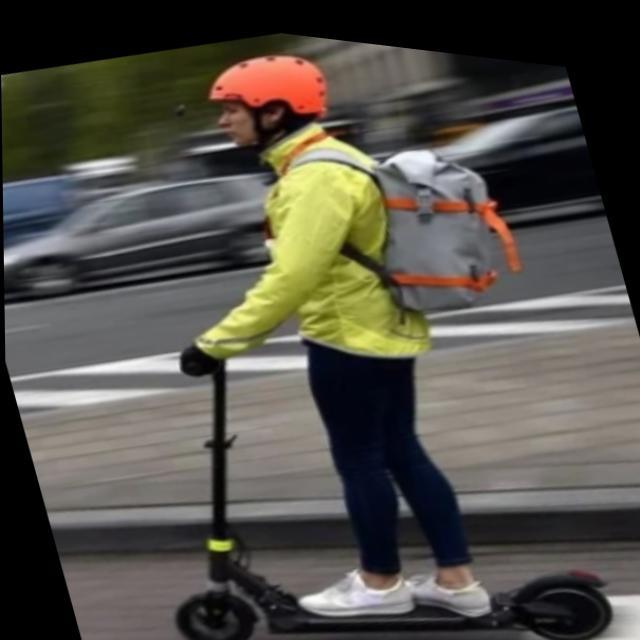Helmet: (209, 44, 333, 160)
